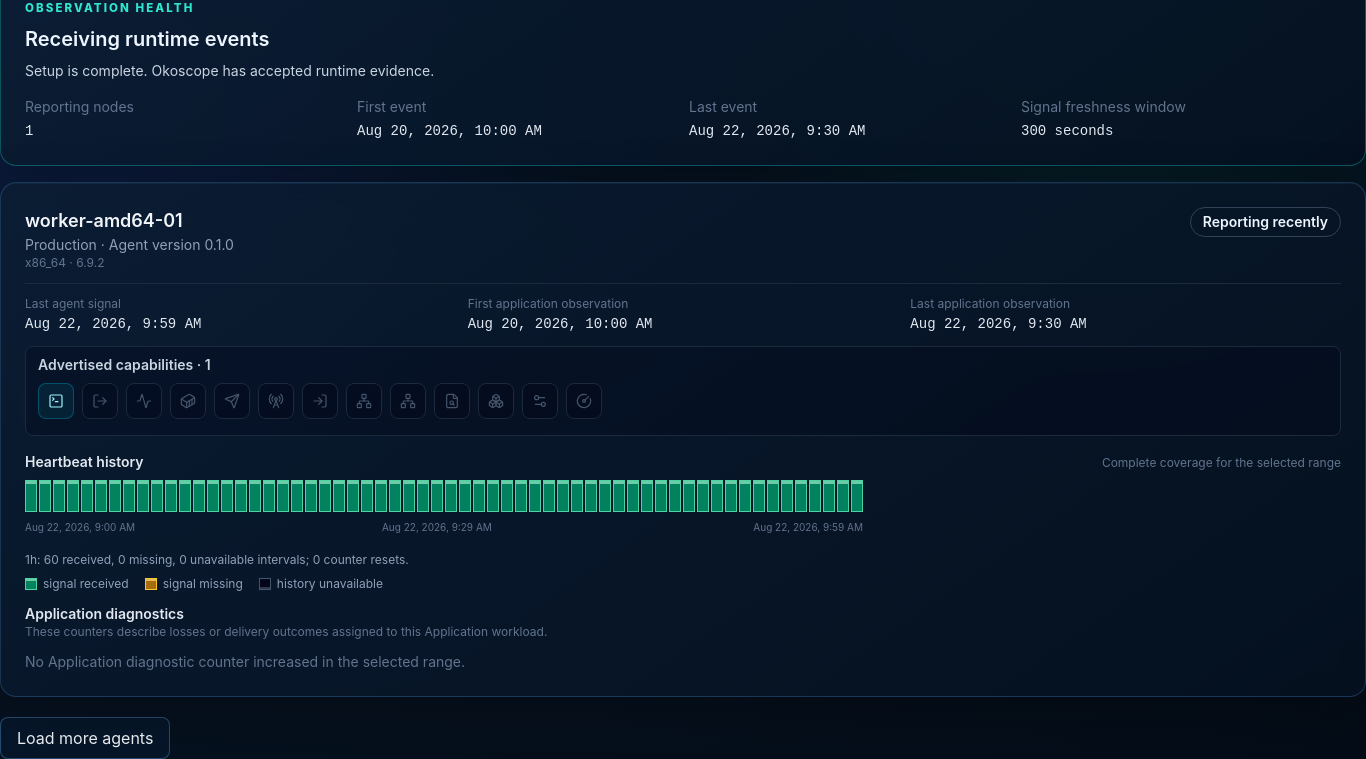
Test case: Application agent health › paginates agents with the opaque cursor
(page scrolled)
Click the button "Load more agents" at (85, 738), box [0, 717, 170, 758]
(page scrolled)
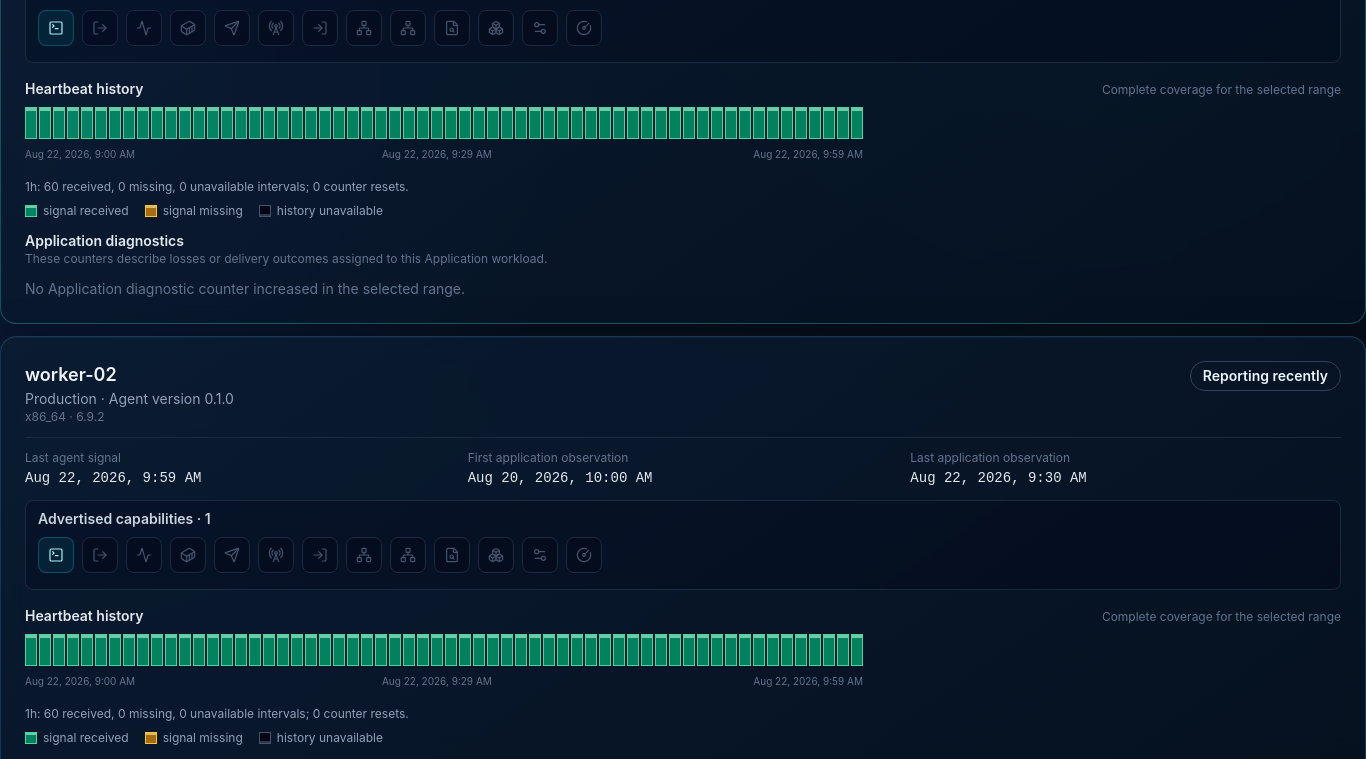
Expected: the heading "worker-02" is shown, [25, 364, 117, 385]
